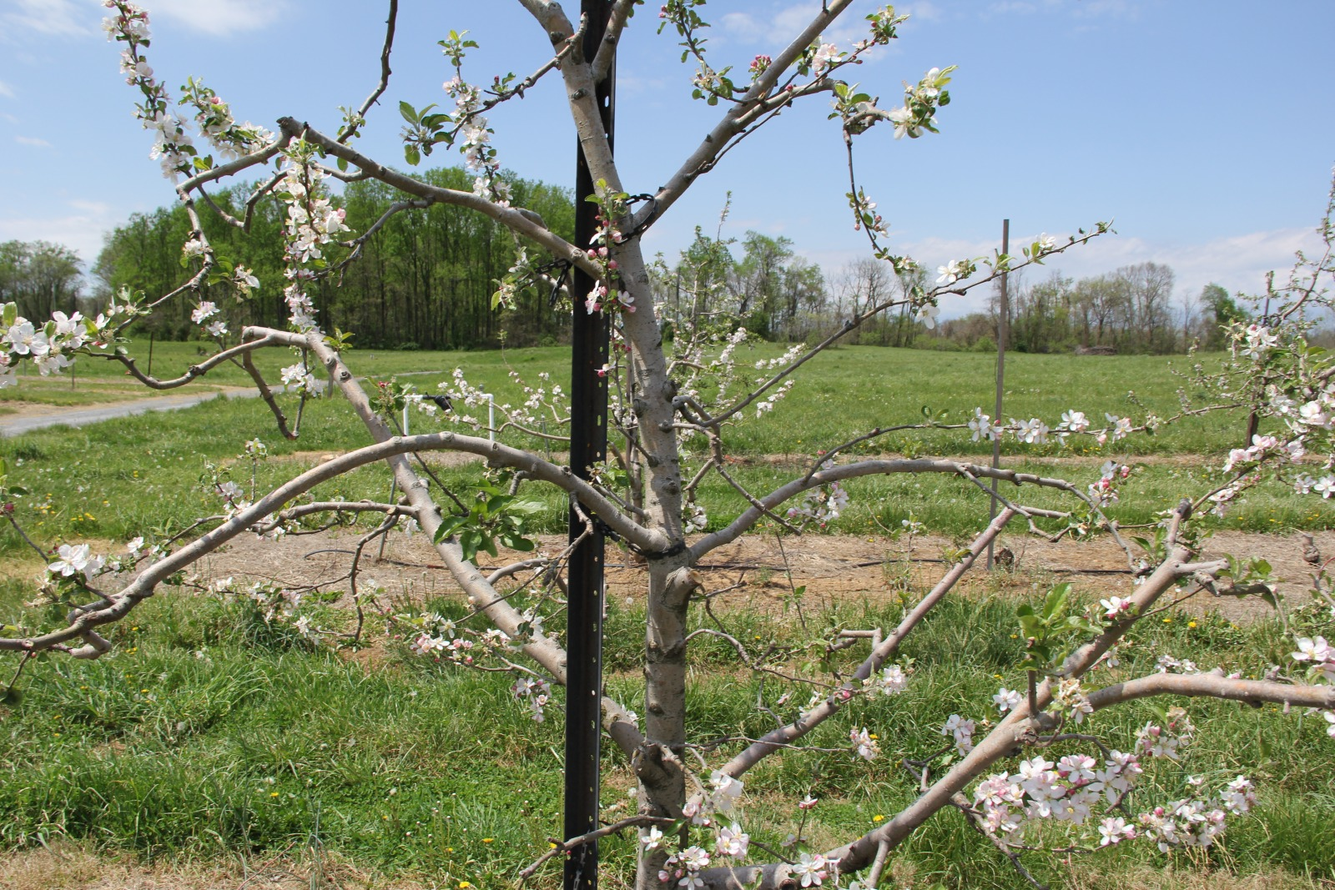flower: (975, 757, 1092, 848), (1057, 750, 1144, 805), (0, 317, 77, 377), (143, 111, 194, 186), (1222, 435, 1309, 475), (206, 120, 276, 161), (1176, 802, 1228, 850), (798, 481, 852, 524), (48, 544, 107, 582), (1292, 636, 1335, 686), (281, 352, 325, 397), (284, 284, 320, 335), (288, 225, 334, 264), (461, 113, 491, 172), (119, 41, 156, 83), (709, 769, 744, 812), (1240, 324, 1280, 360), (1100, 412, 1145, 444), (967, 408, 1008, 443), (53, 311, 90, 349), (942, 715, 975, 757), (1219, 776, 1251, 817), (1147, 810, 1186, 843), (716, 822, 749, 861), (310, 199, 346, 234), (273, 162, 306, 199), (1298, 392, 1335, 425), (793, 854, 829, 887), (888, 106, 922, 140), (123, 3, 153, 41), (1208, 485, 1241, 519), (1099, 817, 1136, 847), (877, 665, 912, 696), (810, 43, 846, 73), (849, 727, 877, 764), (1154, 652, 1201, 674), (1294, 474, 1335, 499), (450, 85, 481, 118), (683, 799, 714, 830), (1134, 721, 1161, 755), (1015, 419, 1050, 445), (285, 199, 309, 236), (678, 846, 713, 871), (1066, 702, 1095, 728), (1151, 737, 1181, 762), (991, 688, 1023, 711), (1057, 409, 1090, 431), (417, 631, 450, 653), (585, 280, 606, 314), (1101, 596, 1131, 619), (914, 303, 940, 329), (1268, 391, 1298, 413), (101, 15, 123, 43), (192, 302, 220, 324), (512, 677, 537, 701), (936, 260, 961, 283), (922, 68, 941, 98), (642, 825, 663, 852), (219, 480, 244, 502), (469, 175, 491, 197), (440, 618, 463, 639), (1034, 233, 1059, 252), (494, 179, 516, 200), (237, 269, 260, 289), (0, 364, 18, 389), (678, 872, 703, 890), (1103, 647, 1121, 671), (1101, 461, 1123, 480), (530, 695, 548, 716), (199, 104, 216, 126), (312, 169, 332, 186), (206, 321, 228, 336), (617, 290, 635, 308), (442, 76, 461, 93), (590, 226, 607, 245), (184, 239, 204, 255), (284, 269, 312, 280), (530, 615, 545, 634), (1089, 485, 1105, 502), (128, 537, 144, 553), (95, 314, 111, 329), (482, 158, 500, 170), (1059, 432, 1071, 446), (821, 459, 836, 470), (1322, 712, 1335, 724), (1168, 801, 1182, 811), (495, 200, 510, 209), (1327, 725, 1335, 736), (1106, 807, 1111, 812), (276, 194, 280, 200)
